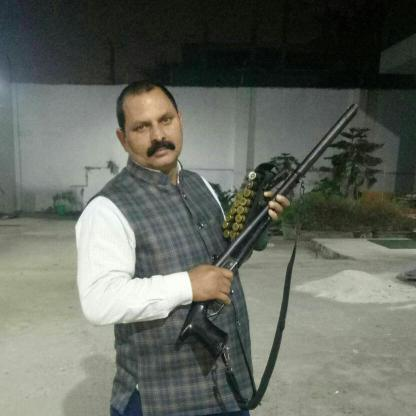rifle: (175, 101, 360, 363)
